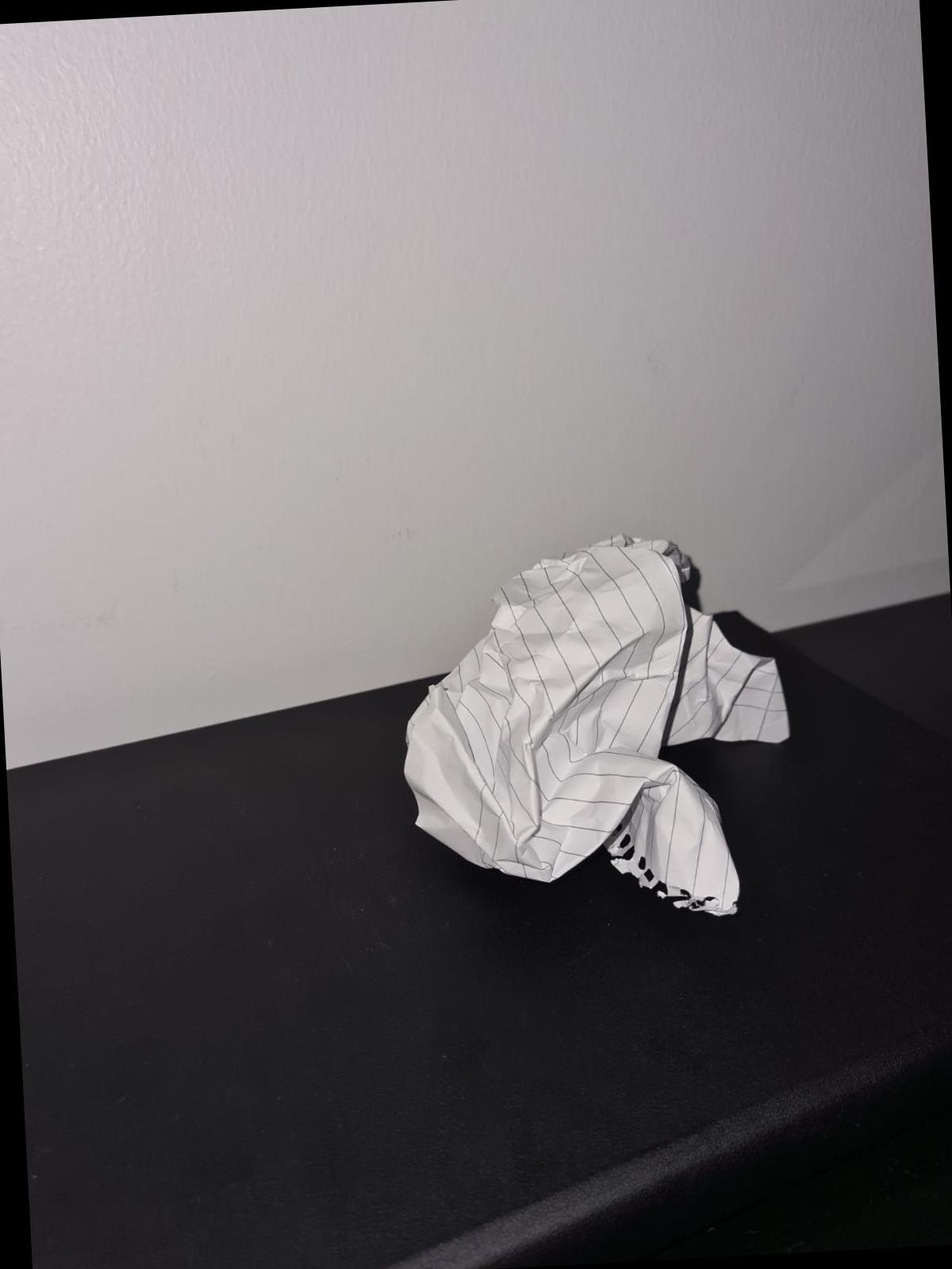Kertas: (405, 535, 789, 916)
